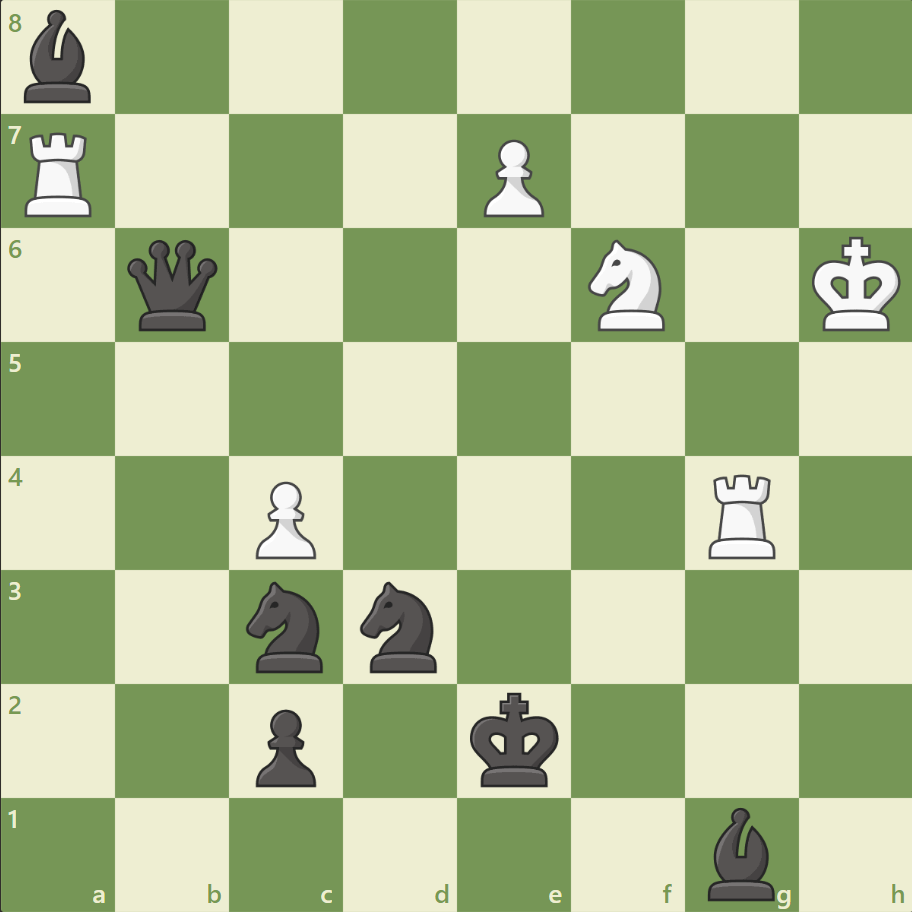K: (806, 231, 906, 339)
N: (579, 234, 676, 337)
P: (474, 132, 549, 223), (247, 473, 322, 564)
R: (19, 125, 102, 222), (700, 466, 783, 563)
b: (17, 6, 101, 109), (698, 801, 782, 904)
k: (465, 685, 565, 793)
n: (351, 575, 449, 677), (238, 575, 335, 677)
p: (247, 700, 322, 791)
q: (124, 236, 223, 335)
